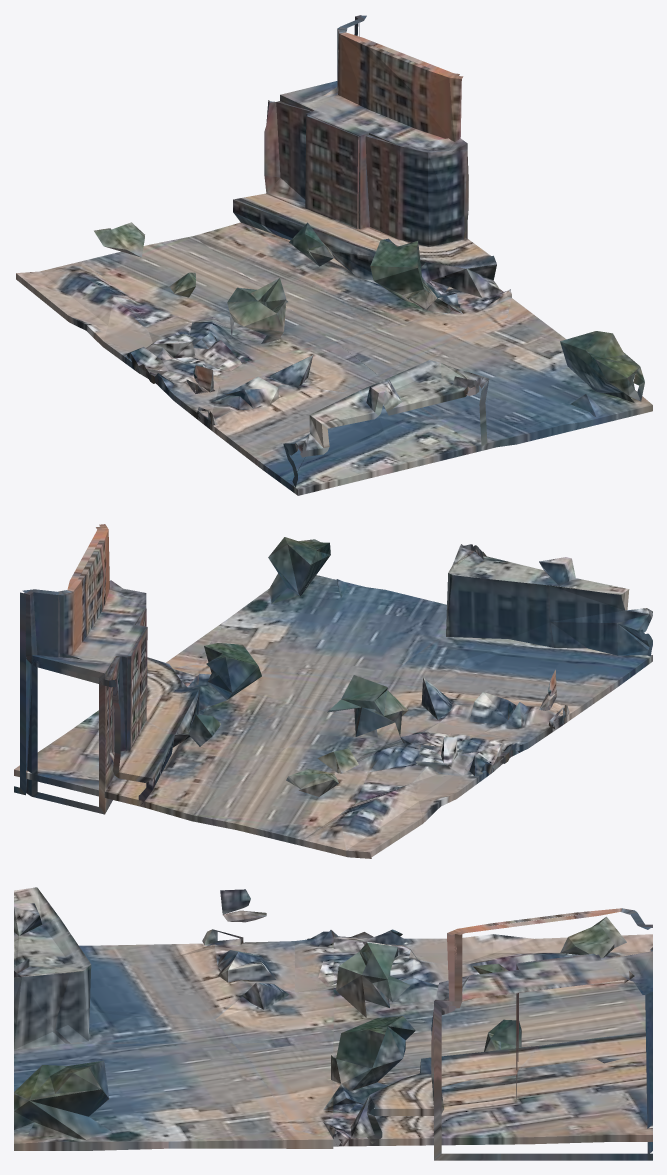
File: chunk_-8_-2.glb
The picture shows the model from 3 angles, top to bottom: view 1: azimuth 30°, elevation 25°; view 2: azimuth 150°, elevation 25°; view 3: azimuth 270°, elevation 25°; orthographic projection. The views are drawn at different scales.
Parts seen in each view (by area): view 1: hero-chunk; view 2: hero-chunk; view 3: hero-chunk.
Part boxes in pixels (box(x1,y1,x2,y2)): hero-chunk: box(16, 15, 652, 495); hero-chunk: box(14, 524, 652, 858); hero-chunk: box(14, 887, 652, 1160).
Bounding box in the file's own units: 56.34 × 29.99 × 76.32.
2 materials, 2 textured.
